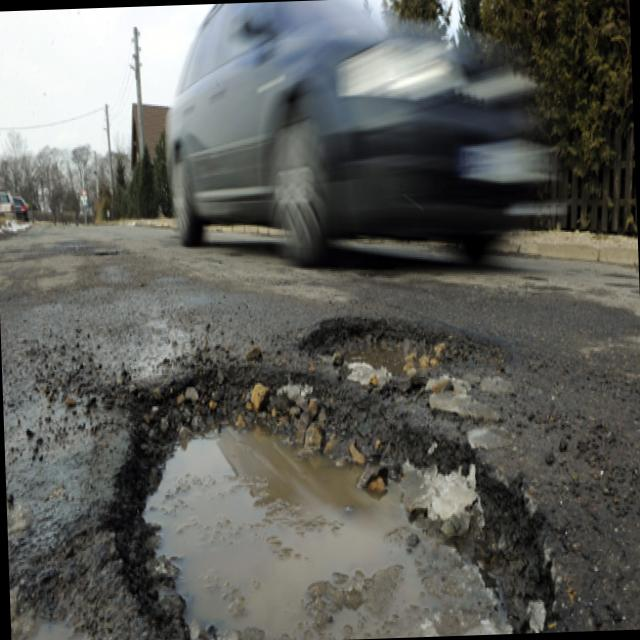Potholes: (96, 342, 594, 640), (288, 272, 470, 420), (6, 503, 120, 640)
